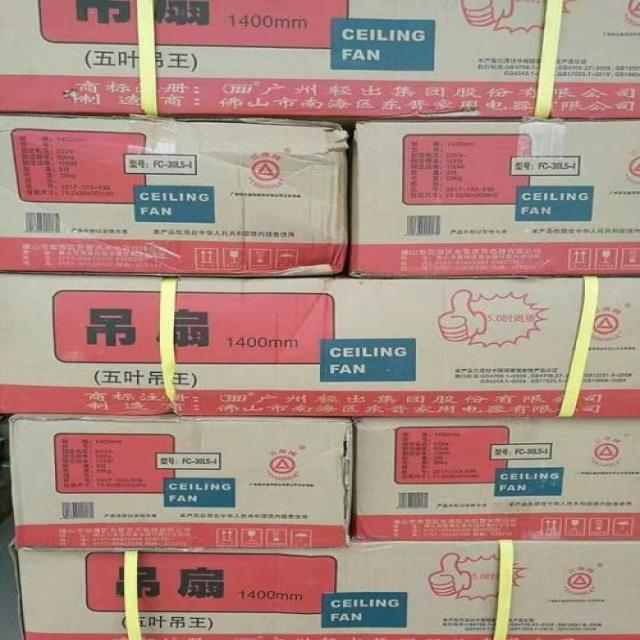box: (0, 272, 639, 418), (0, 0, 639, 122), (7, 537, 638, 639), (0, 112, 349, 277), (7, 412, 353, 548), (349, 119, 639, 278), (348, 416, 639, 540)
